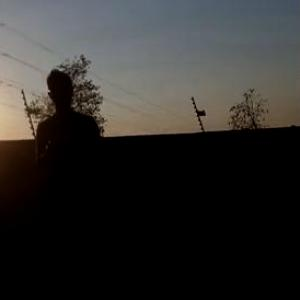follow: (32, 62, 117, 299)
